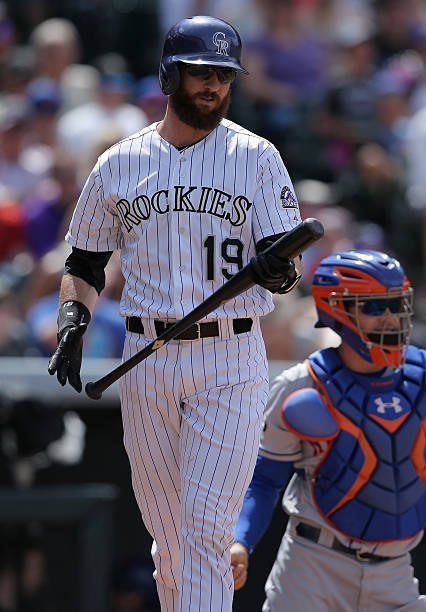bita: (87, 223, 319, 404)
